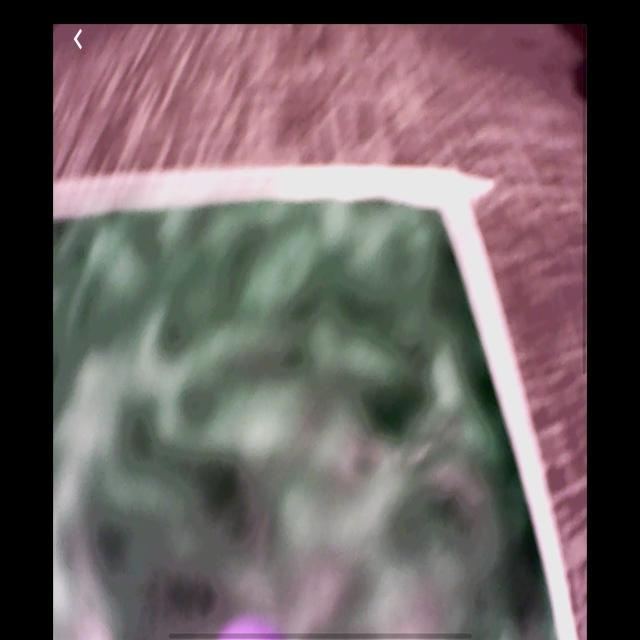ball: (218, 614, 289, 640)
